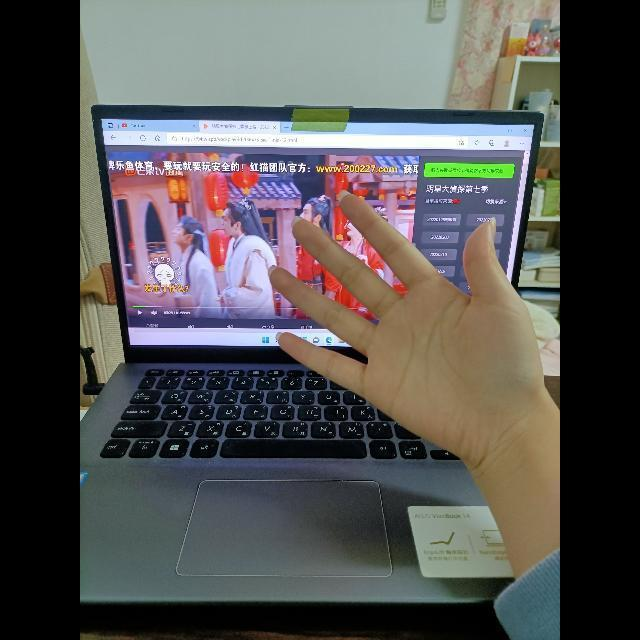bare_hand: (266, 186, 557, 473)
